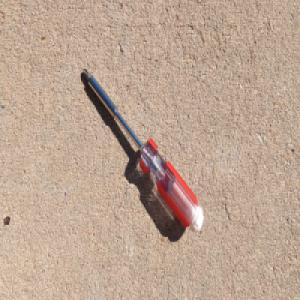Screwdriver: (81, 64, 205, 235)
